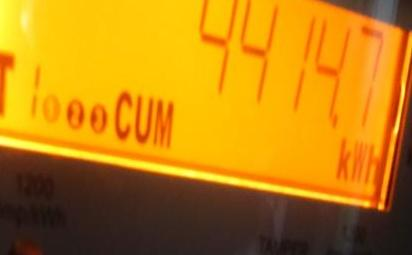.: (334, 133, 385, 188)
0: (329, 112, 344, 131)
2: (289, 16, 321, 112)
5: (305, 22, 355, 132), (233, 1, 284, 107), (195, 0, 237, 97)
8: (355, 24, 386, 130)
